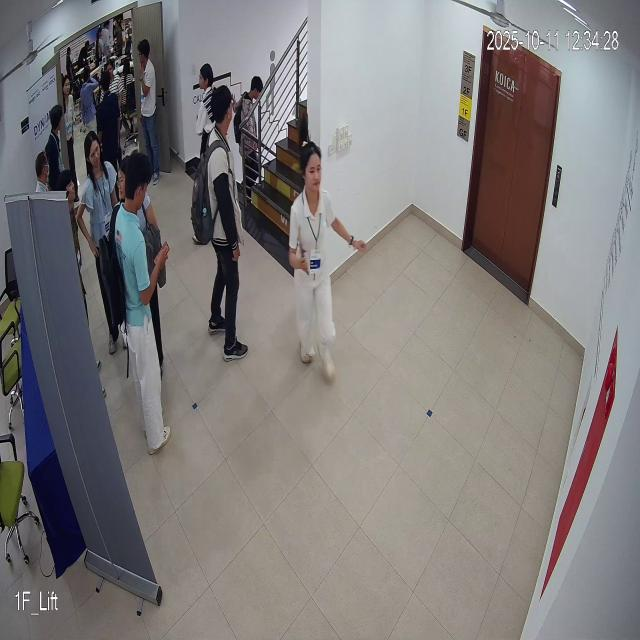face: (300, 130, 333, 210)
